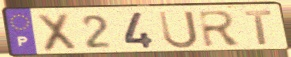2: (81, 13, 114, 50)
4: (122, 11, 158, 51)
R: (196, 9, 244, 49)
T: (242, 9, 274, 47)
U: (156, 10, 200, 50)
X: (34, 12, 79, 53)
